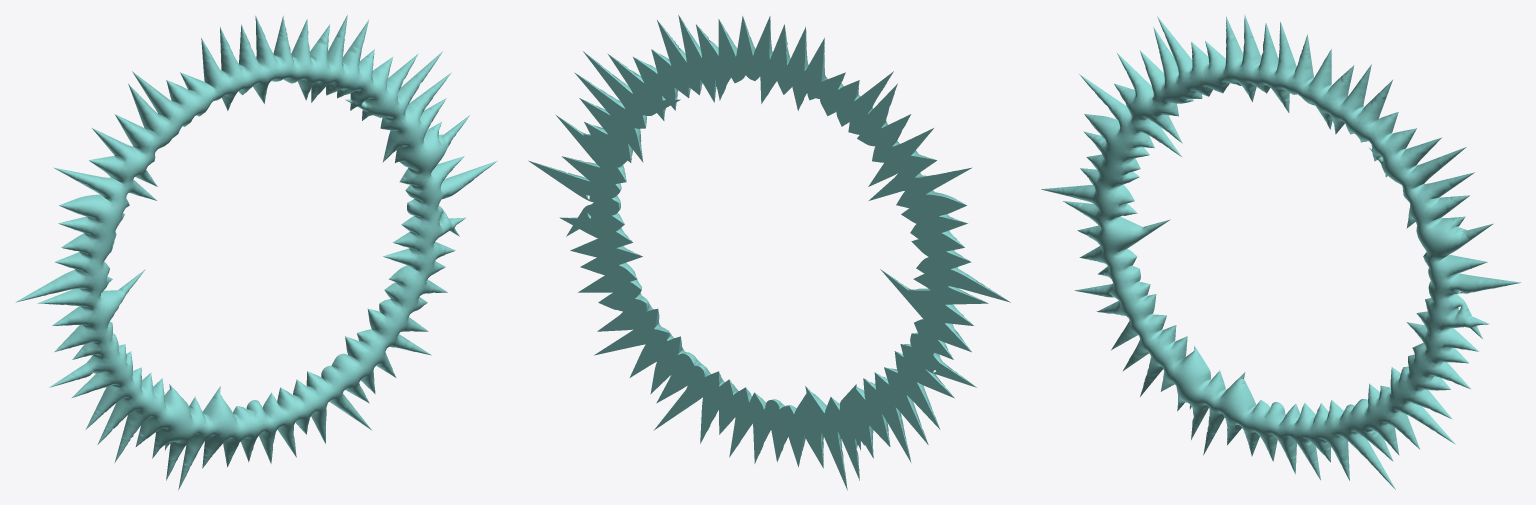
File: Portal.gltf
3 renders of one model, left to right at view 1: azimuth 30°, elevation 25°; view 2: azimuth 150°, elevation 25°; view 3: azimuth 330°, elevation 25°, orthographic.
Bounding box in the file's own units: 0.2951 × 0.2661 × 0.013.
